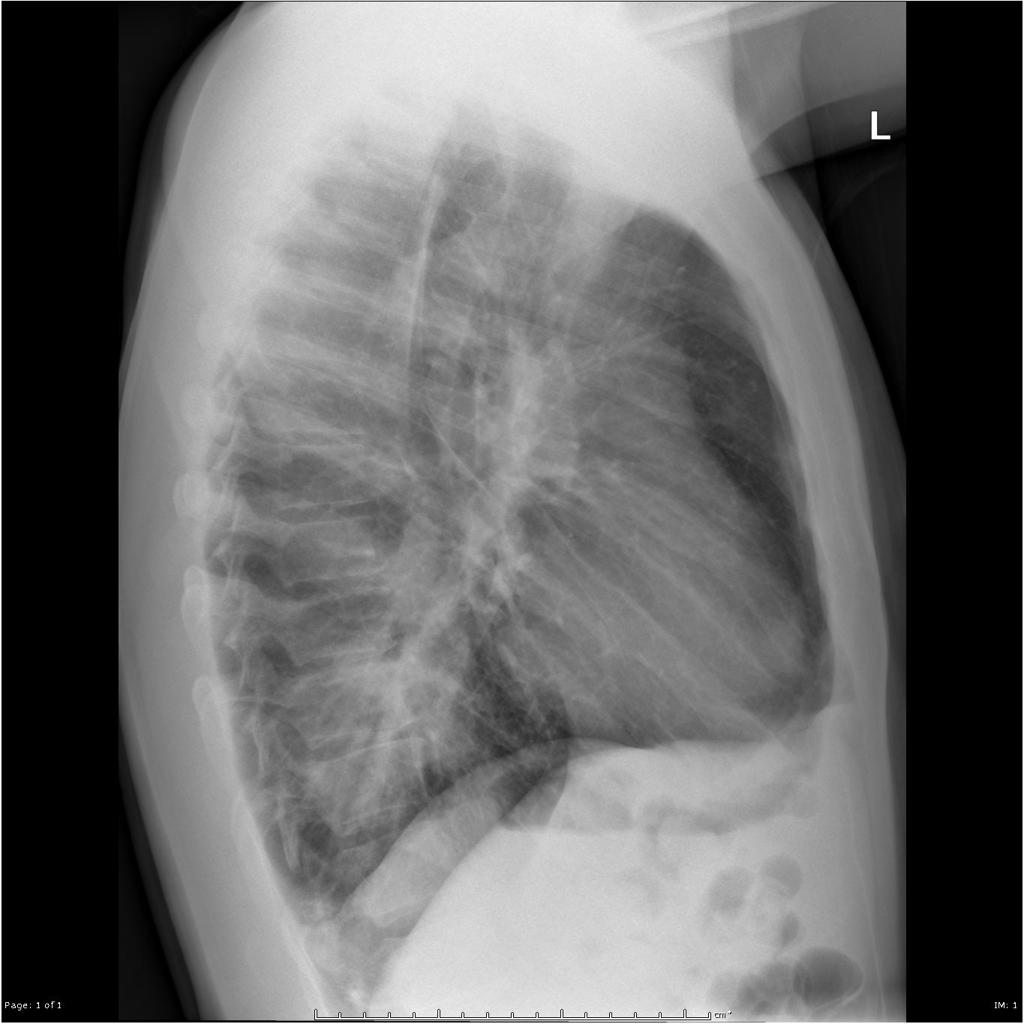cancer: (239, 222, 704, 787)
